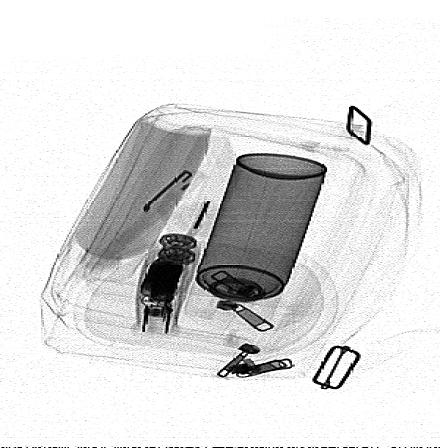Sprayer: (183, 153, 329, 330)
